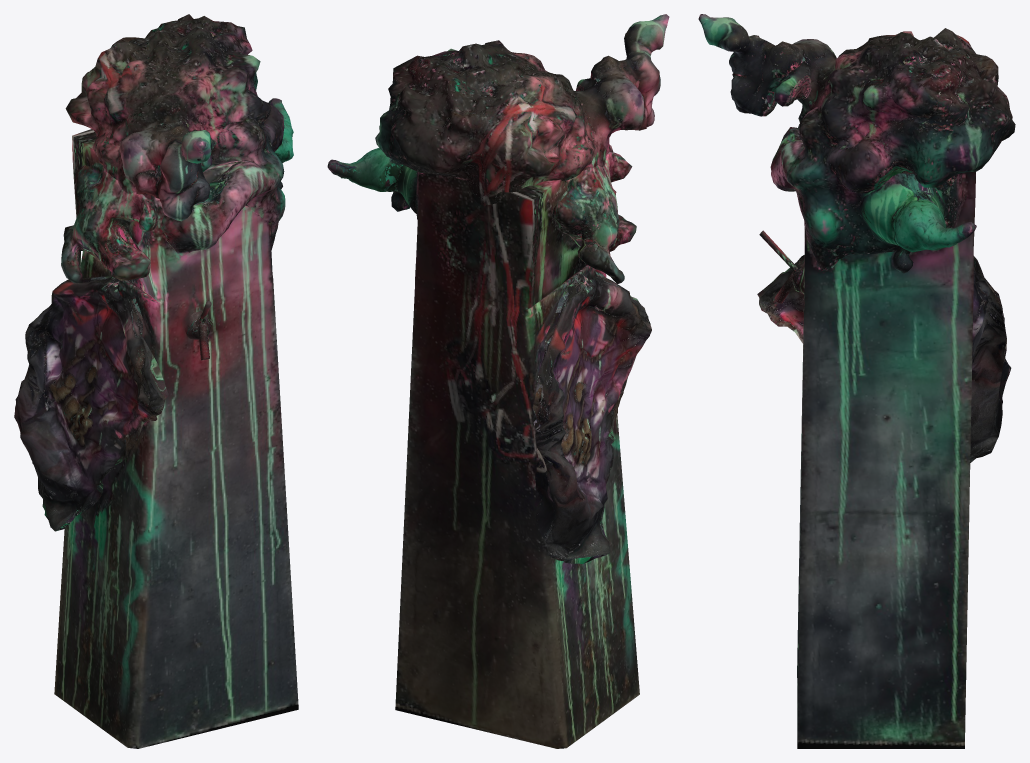
Rendered from Statue3_retopo_merged.glb.
3 renders of one model, left to right at view 1: azimuth 30°, elevation 25°; view 2: azimuth 150°, elevation 25°; view 3: azimuth 270°, elevation 25°, orthographic. The views are drawn at different scales.
Visible parts, largest first — view 1: Icosphere.003; view 2: Icosphere.003; view 3: Icosphere.003.
Boxes of the visible parts, x1,y1,x2,y2 form: Icosphere.003: (14,14,298,748); Icosphere.003: (327,14,669,748); Icosphere.003: (698,14,1015,748).
Size of the model in its own units: 0.8075 by 1.95 by 0.8216.
Materials: 1 (1 with a texture image).
